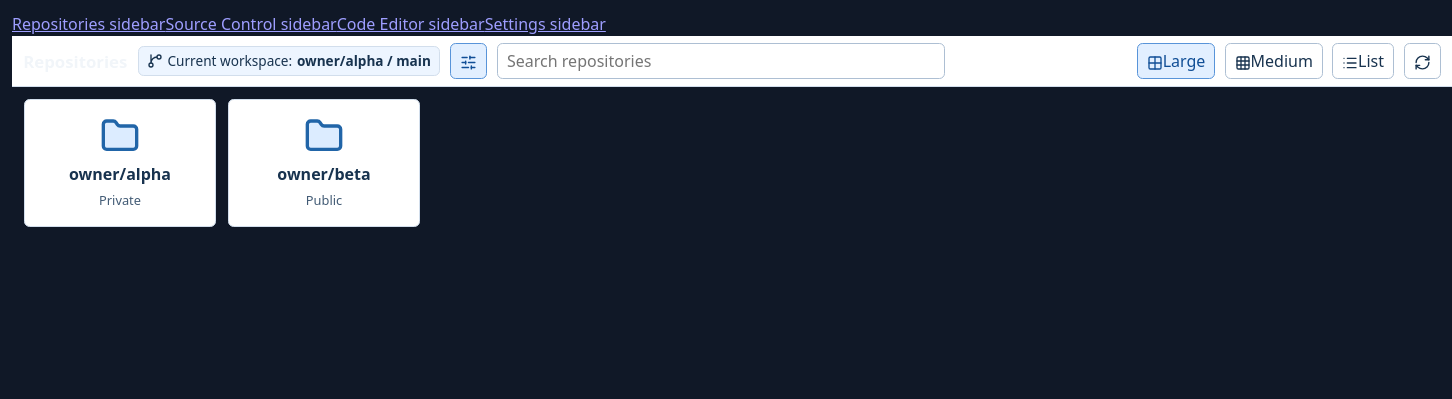
shows the current workspace after returning and confirms a repository switch before opening Code Editor
The width and height of the screenshot is (1452, 399).
Expected: the text "owner/alpha / main" is shown, [297,51,431,71]
Click the button "Medium". click: (1274, 61)
box: [1225,43,1323,79]
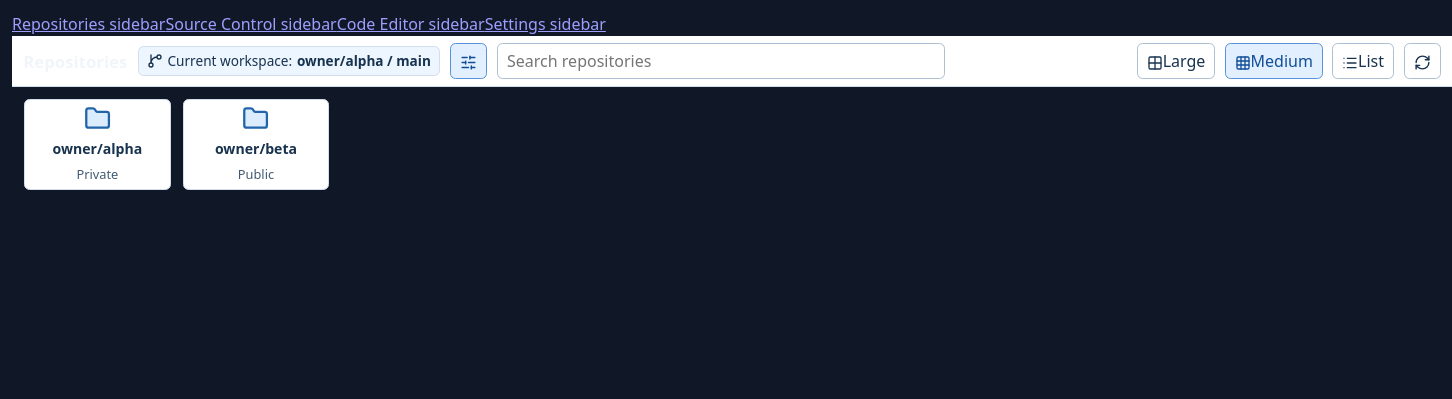
Expected: the button "Medium" is pressed, [1225,43,1323,79]
Click the button "List". click: (1363, 61)
box: [1332,43,1394,79]
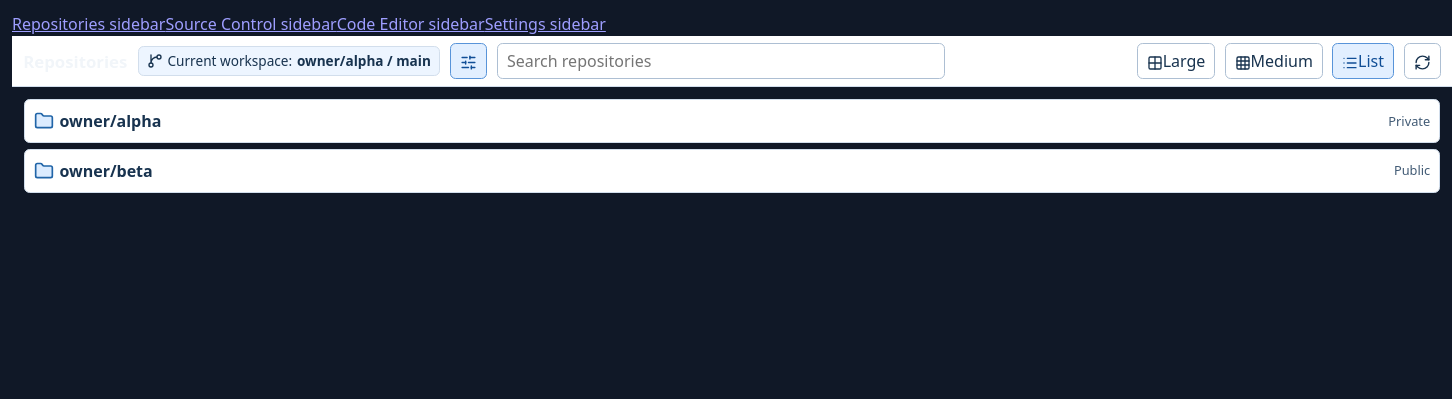
Expected: the button "List" is pressed, [1332,43,1394,79]
Click the button with aria-label "Open owner/alpha". click: (110, 121)
box: [24,99,1440,143]
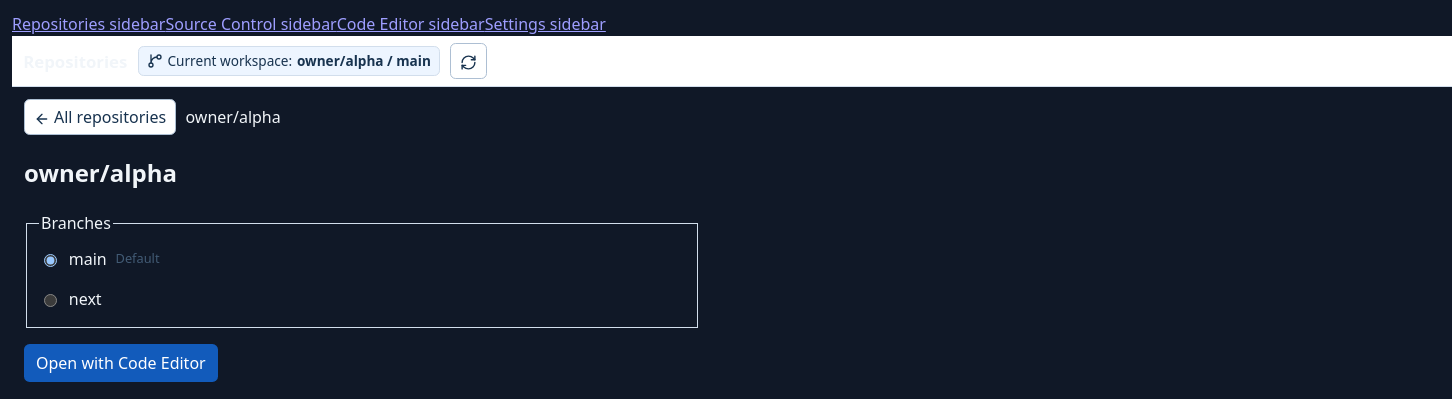
Expected: the radio button labelled "main Default" is shown, [44,254,57,267]
Click the button "All repositories". click: (100, 117)
box: [24,99,176,135]
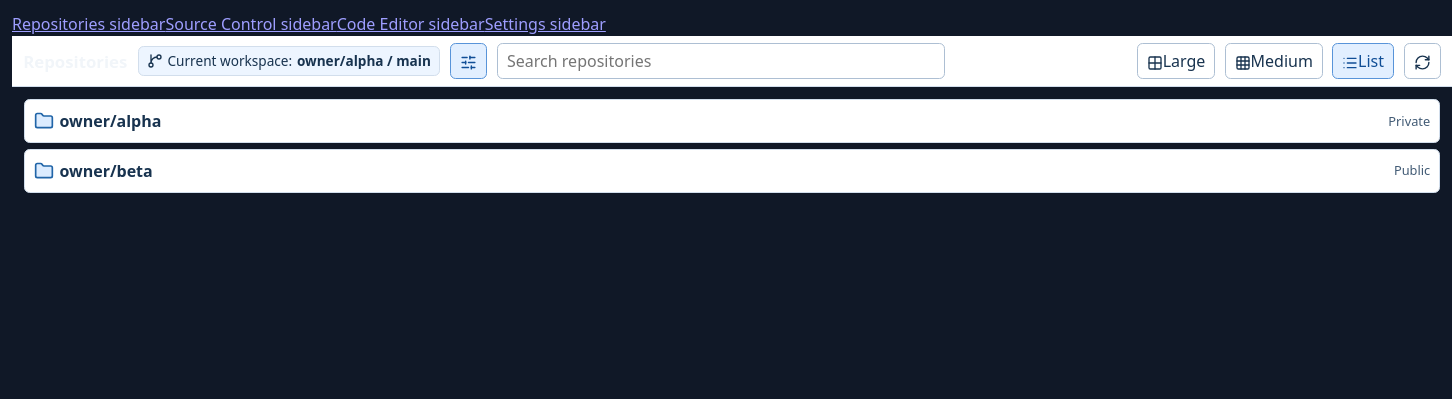
Click the button with aria-label "Open owner/beta". click: (106, 171)
box: [24,149,1440,193]
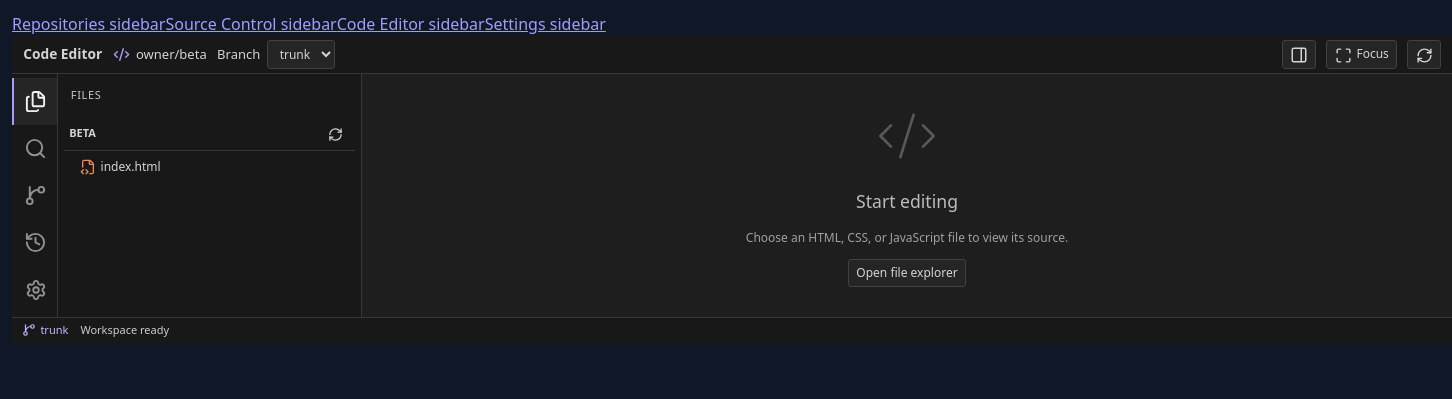
Expected: the heading "Code Editor" is shown, [23,44,102,65]
Expected: the button "index.html" is shown, [75,154,355,180]
Click the link "Repositories sidebar". click: (89, 24)
box: [12,13,165,35]
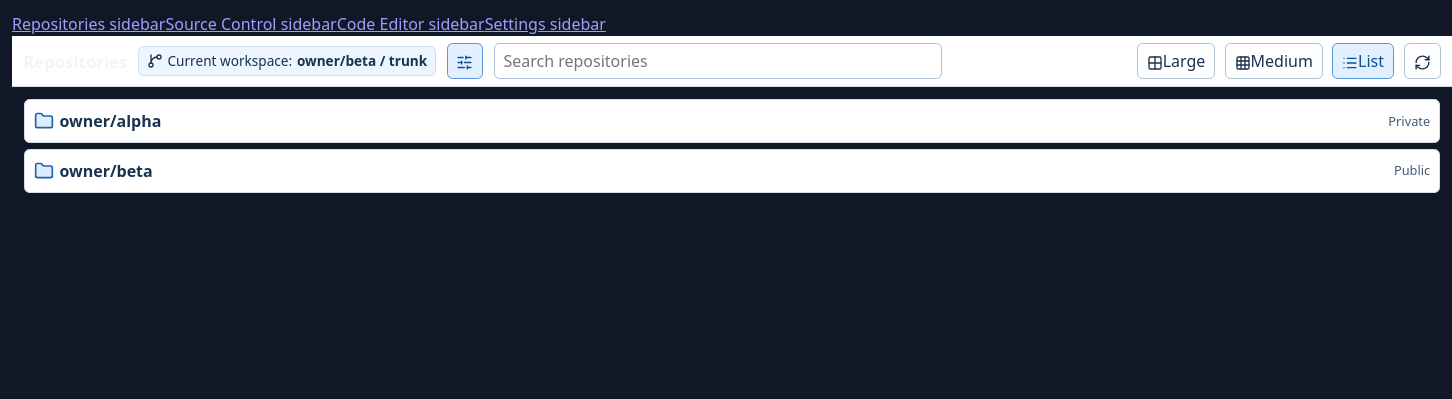
Expected: the text "owner/beta / trunk" is shown, [297,51,427,71]
Expected: the button with aria-label "Open owner/alpha" is shown, [24,99,1440,143]
Expected: the button with aria-label "Open owner/beta" is shown, [24,149,1440,193]
